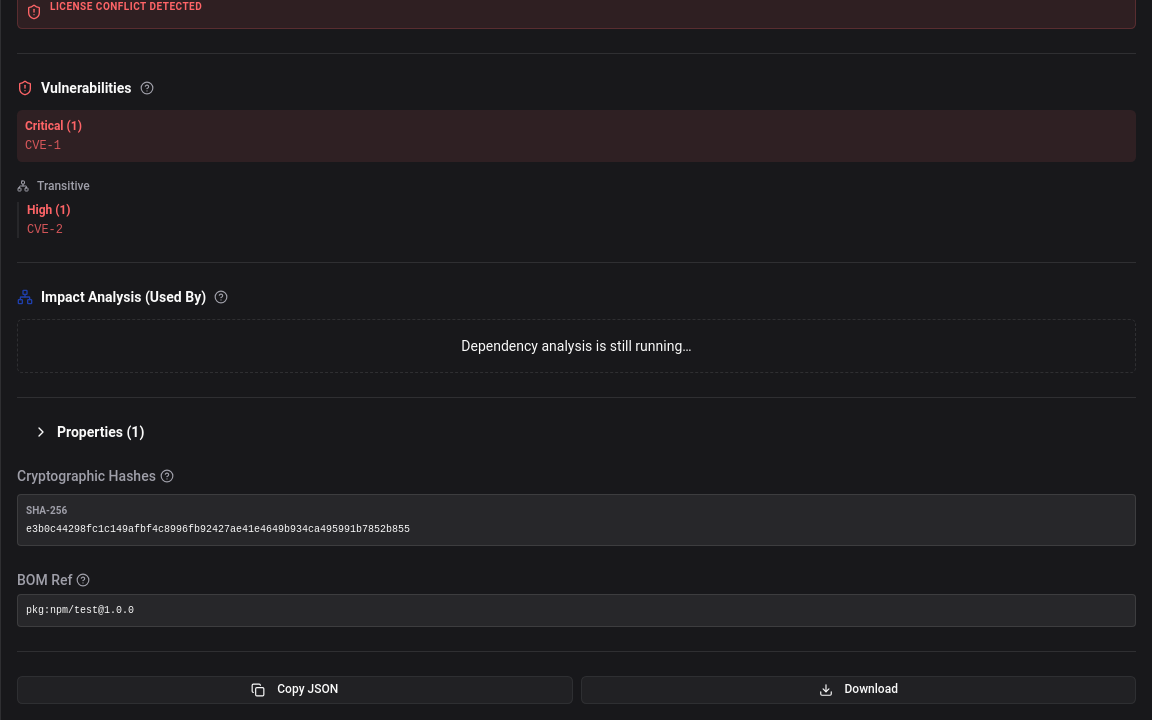
Test: ComponentDetailPanel › renders additional details (properties)
(page scrolled)
Check: the heading "Properties (1)" is shown, box top-left (57, 422), bottom-right (144, 442)
# Open the collapsible
Click the button "Properties (1)" at (94, 432), box top-left (33, 422), bottom-right (1120, 442)
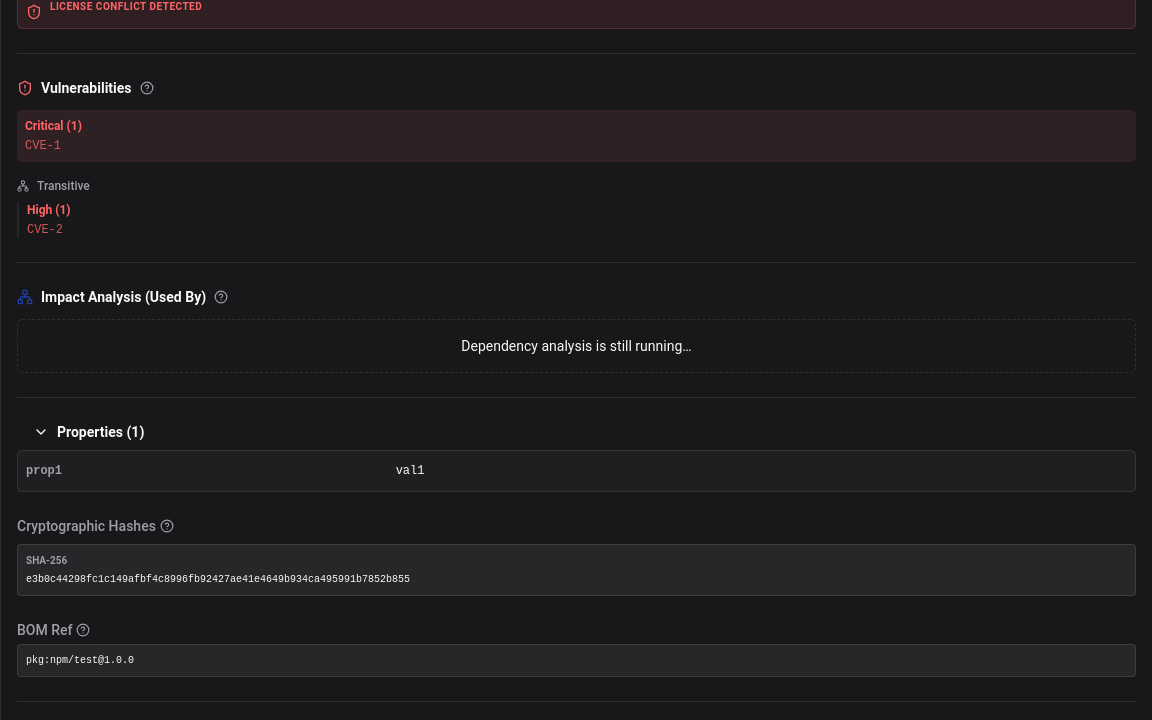
Check: the text "prop1" is shown, box top-left (26, 464), bottom-right (62, 478)
Check: the text "val1" is shown, box top-left (396, 464), bottom-right (424, 478)
